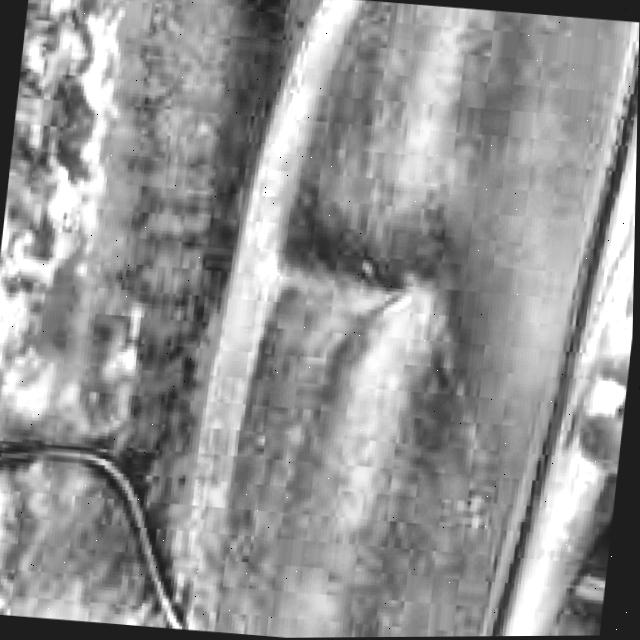bumper_dent: (248, 219, 409, 337)
